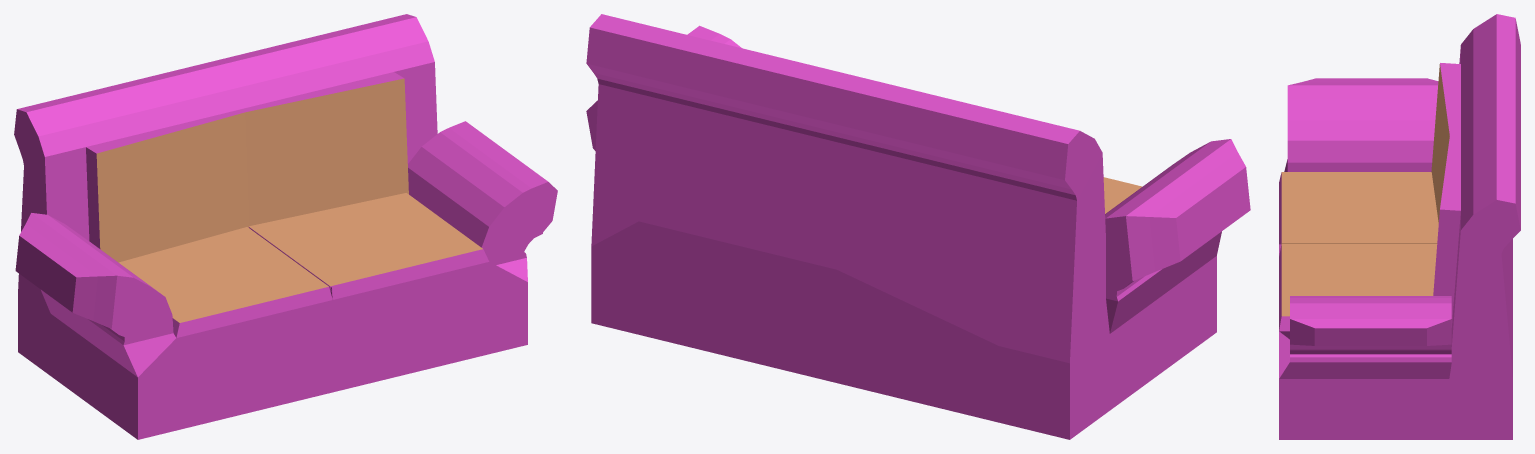
The model's file is Sofa.gltf.
The picture shows the model from 3 angles, left to right: view 1: azimuth 30°, elevation 25°; view 2: azimuth 150°, elevation 25°; view 3: azimuth 270°, elevation 25°; orthographic projection. The views are drawn at different scales.
Parts seen in each view (by area): view 1: Cube; view 2: Cube; view 3: Cube.
Boxes of the visible parts, box(x1,y1,x2,y2) form: Cube: box(14, 14, 557, 439); Cube: box(586, 14, 1250, 439); Cube: box(1279, 14, 1520, 439).
Size of the model in its own units: 1.53 by 0.7514 by 0.6857.
